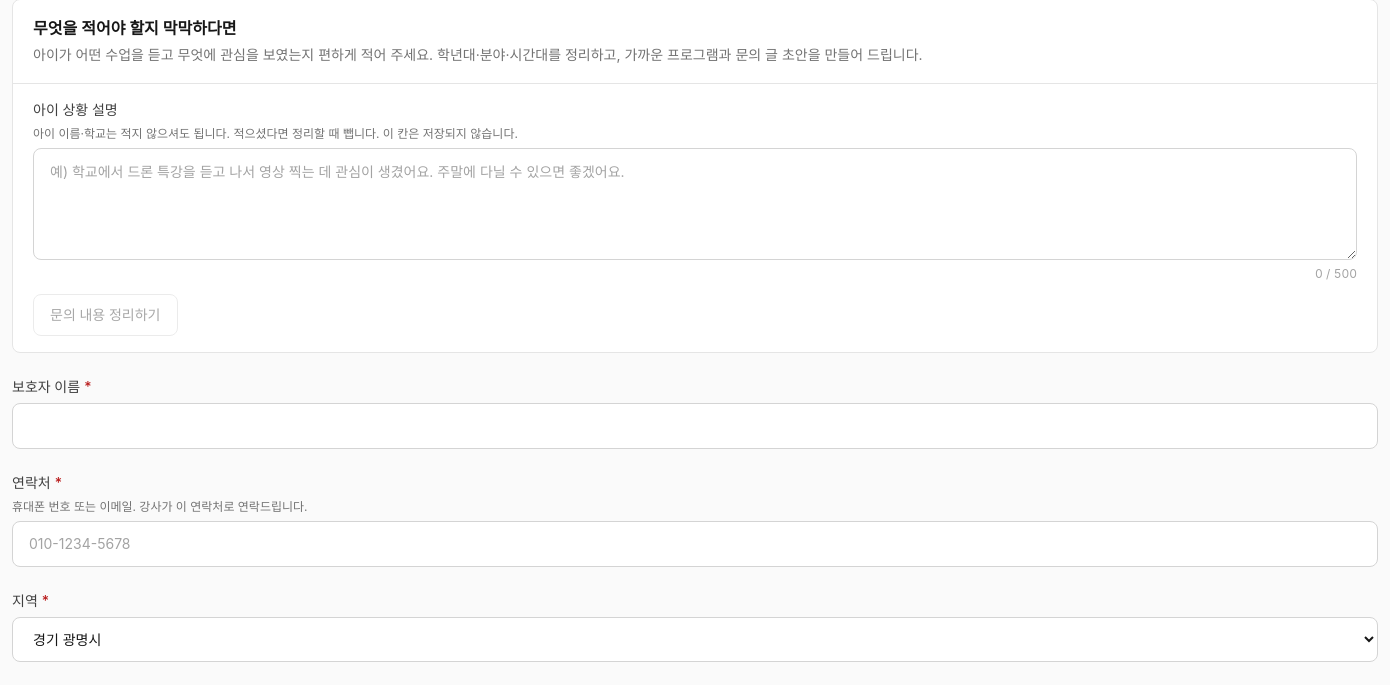
Scenario: 보호자 문의 도우미 › "이 내용으로 폼 채우기"를 눌러야 학년대·분야·요청 내용이 채워진다
Step 1. Type "중학생 아들이 드론 특강 듣고 영상 찍는 데 푹 빠졌어요" into the text box labelled "아이 상황 설명" → (695,204), box [33,148,1357,260]
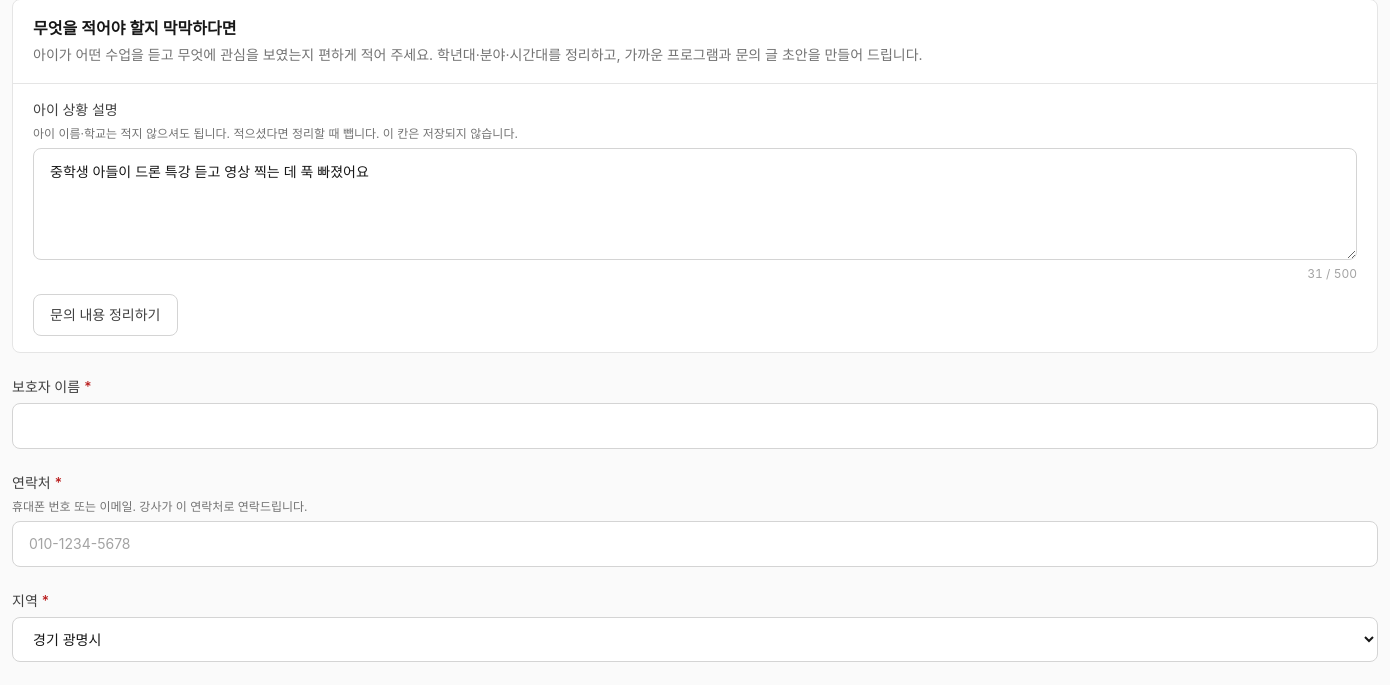
Step 2. Click the button "문의 내용 정리하기" → (105,315), box [33,294,178,336]
(page scrolled)
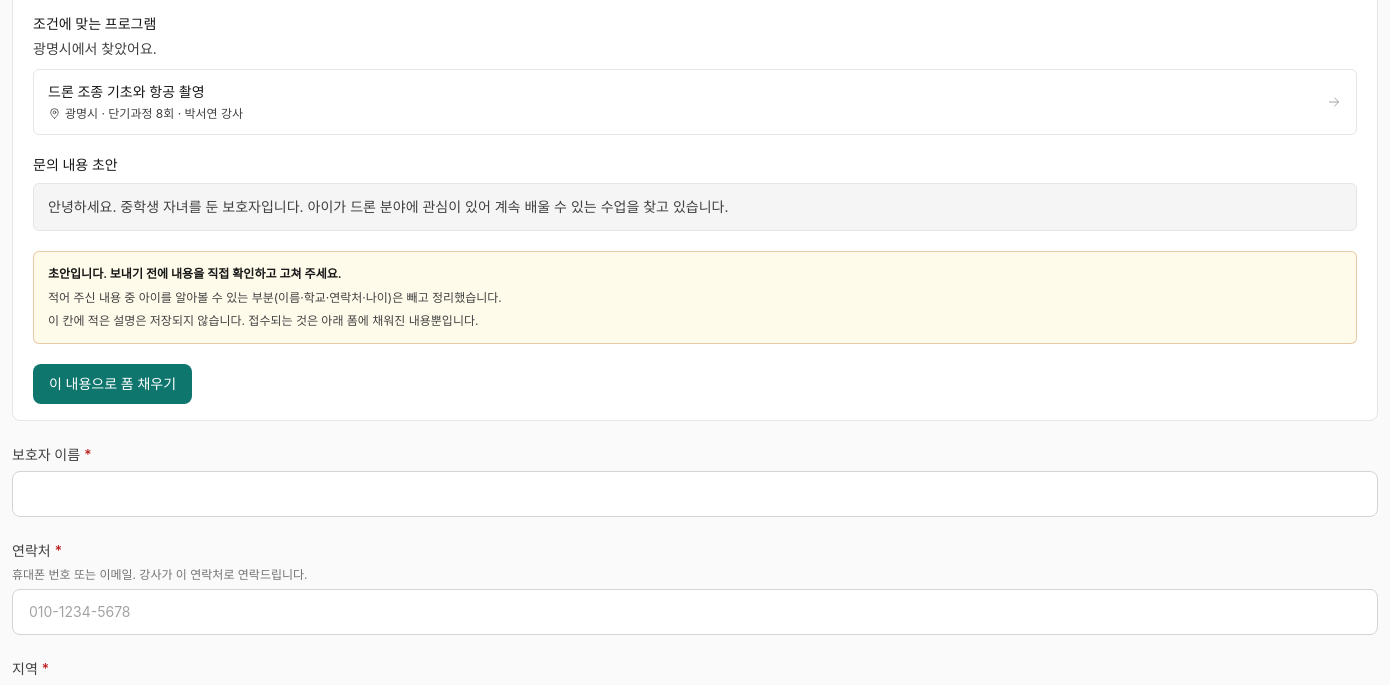
Now the text "안녕하세요. 중학생 자녀를 둔 보호자입니다. 아이가 드론 분야에 관심이 있어 계속 배울 수 있는 수업을 찾고 있습니다." is shown, box [33,182,1357,231]
Step 3. Click the button "이 내용으로 폼 채우기" → (113,384), box [33,364,192,404]
(page scrolled)
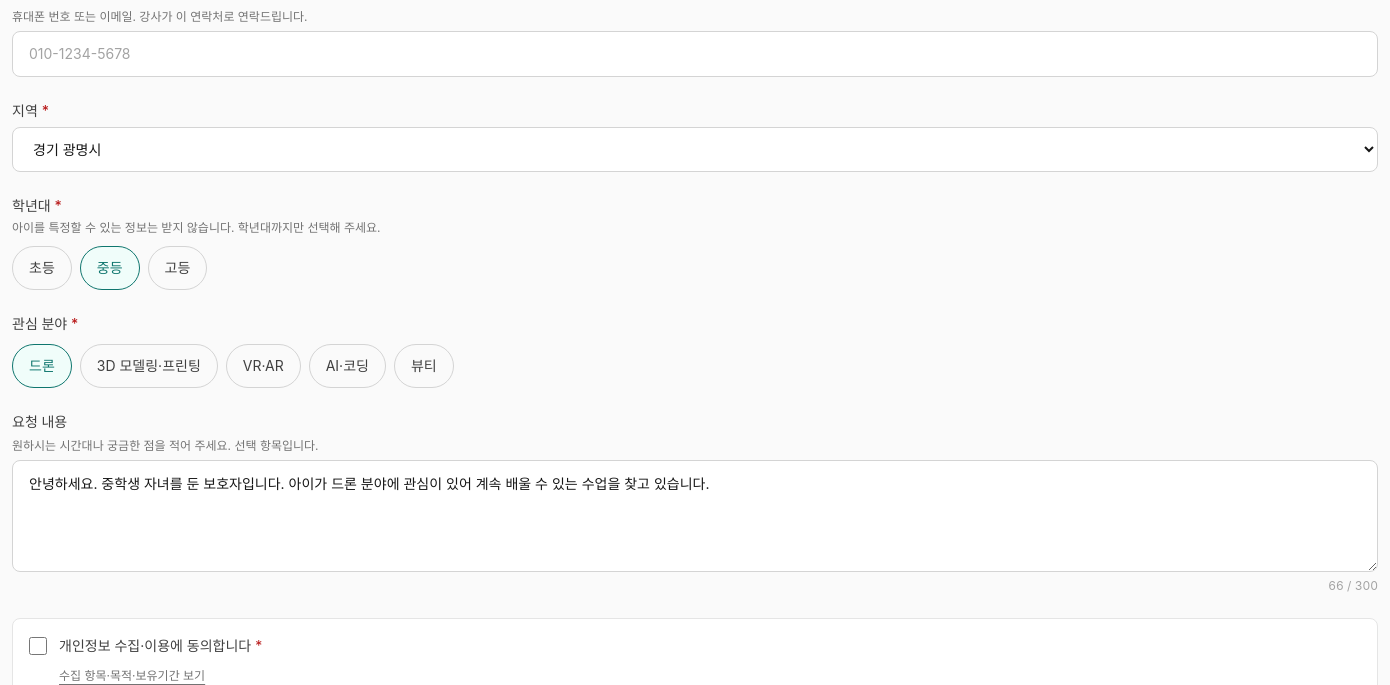
Now the text box labelled "요청 내용" holds "안녕하세요. 중학생 자녀를 둔 보호자입니다. 아이가 드론 분야에 관심이 있어 계속 배울 수 있는 수업을 찾고 있습니다.", box [12,460,1378,572]
